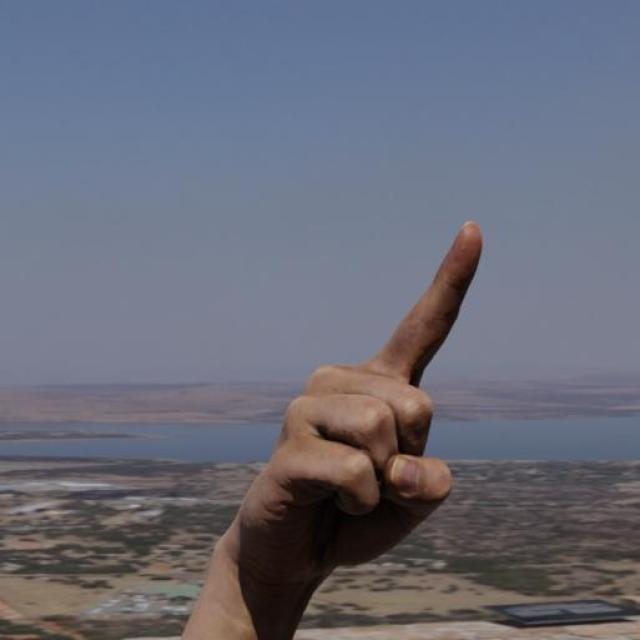Z: (194, 166, 523, 560)
